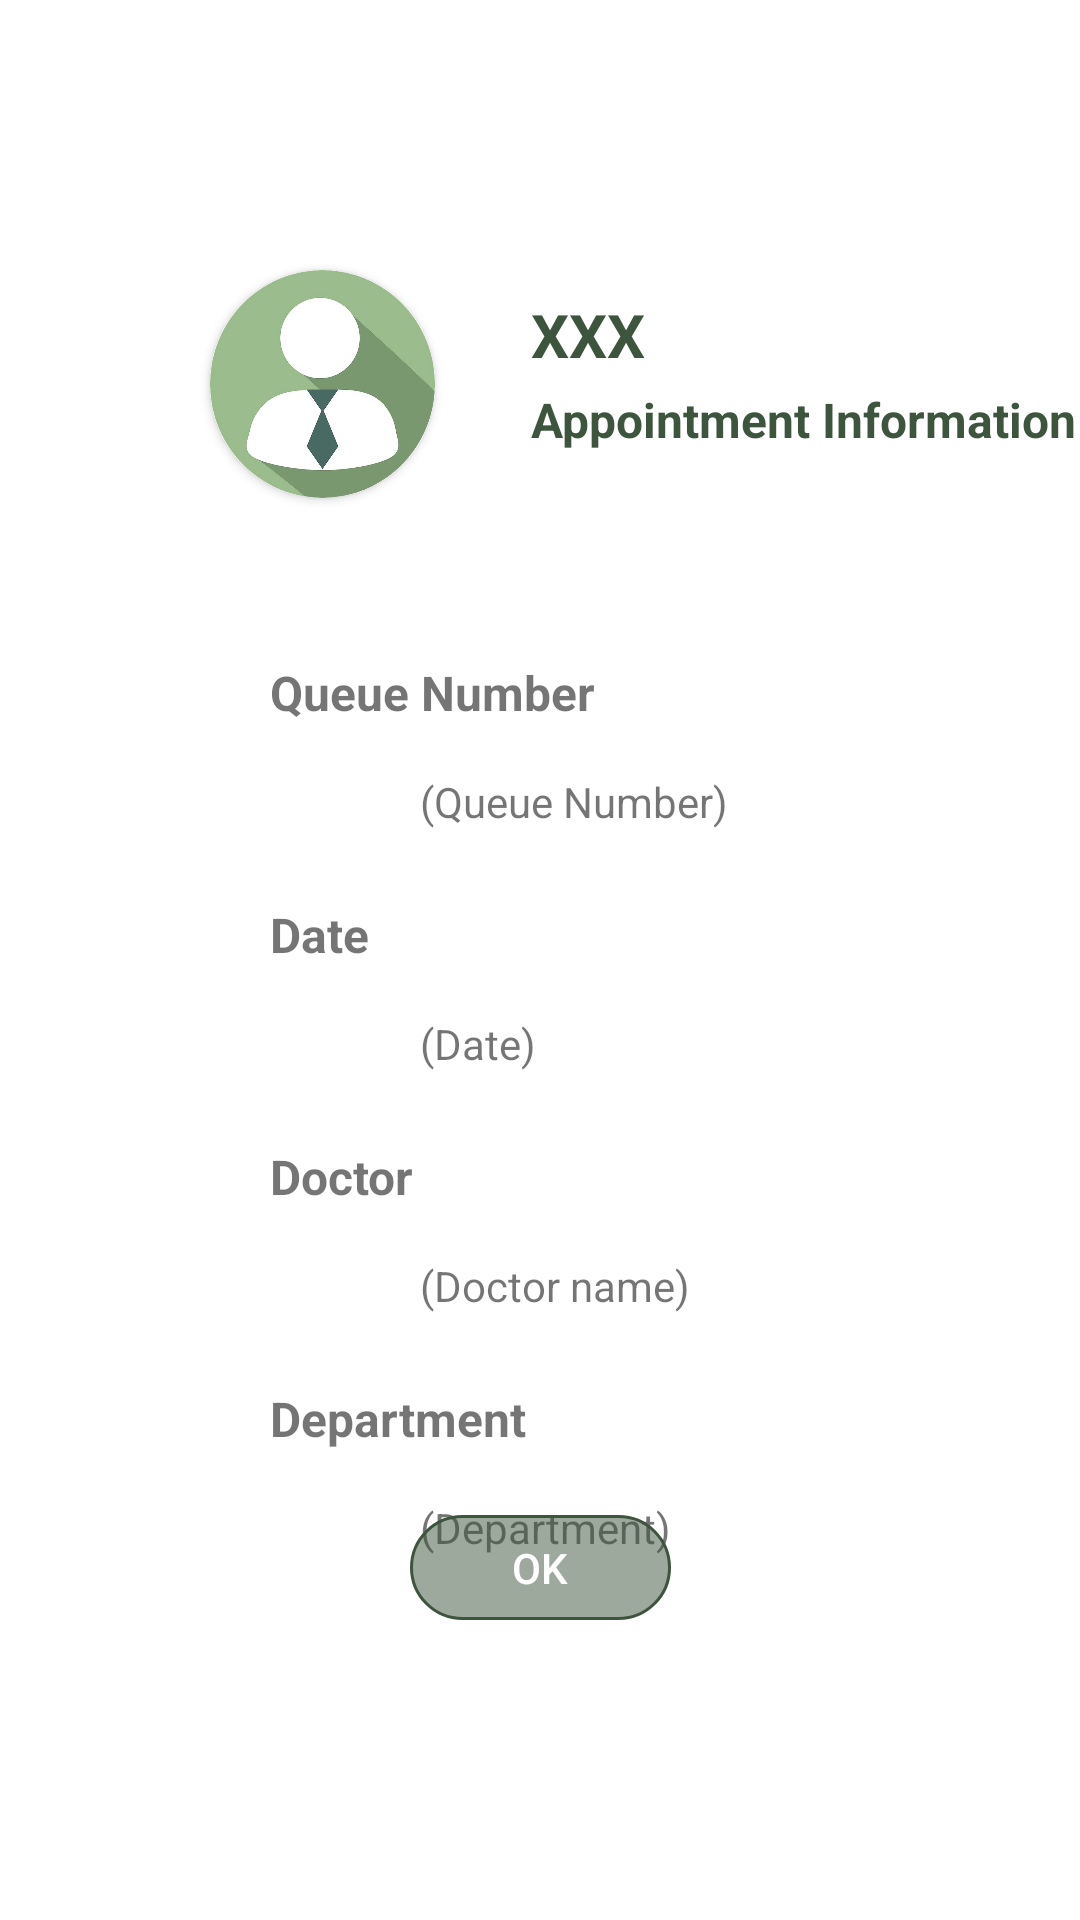

Icon click points for this 1080*1920 phone screenshot, format point (x, y):
patiet: point (322, 384)
